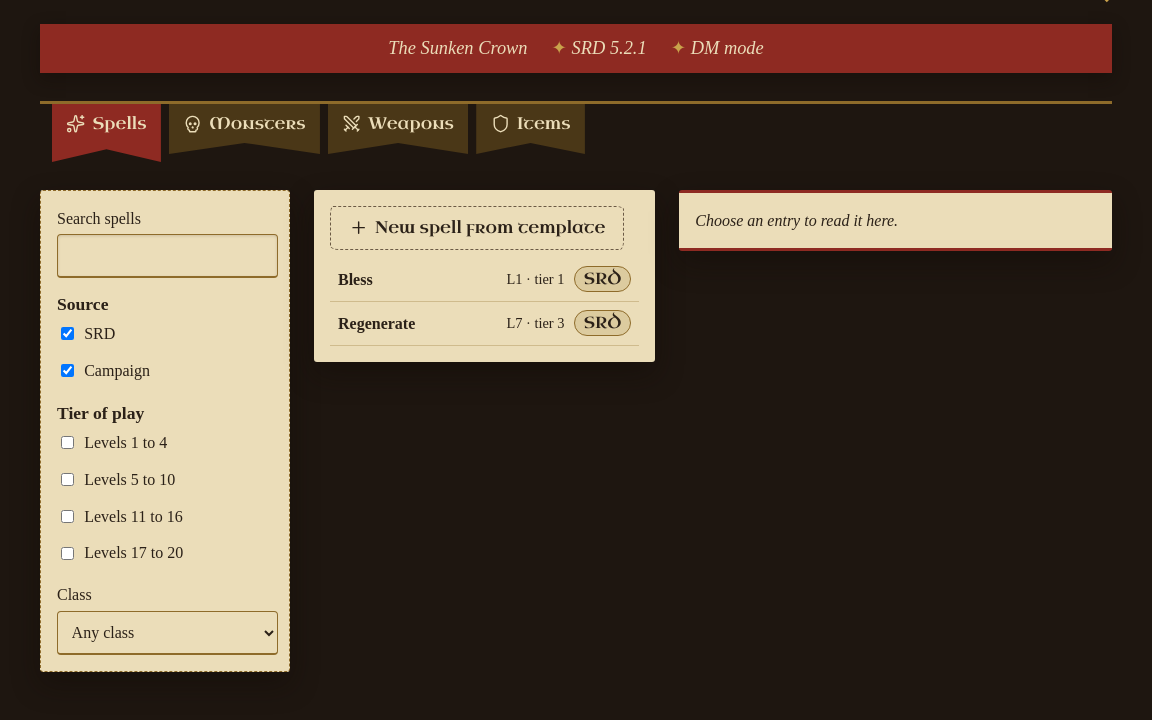
Scenario: the spells shelf › filters by class and tier down to Regenerate and shows its details
The width and height of the screenshot is (1152, 720).
(page scrolled)
Expected: the text "Bless" is shown, [338, 271, 373, 288]
Select "Cleric" in the dropdown labelled "Class" at (168, 633), box [57, 611, 278, 655]
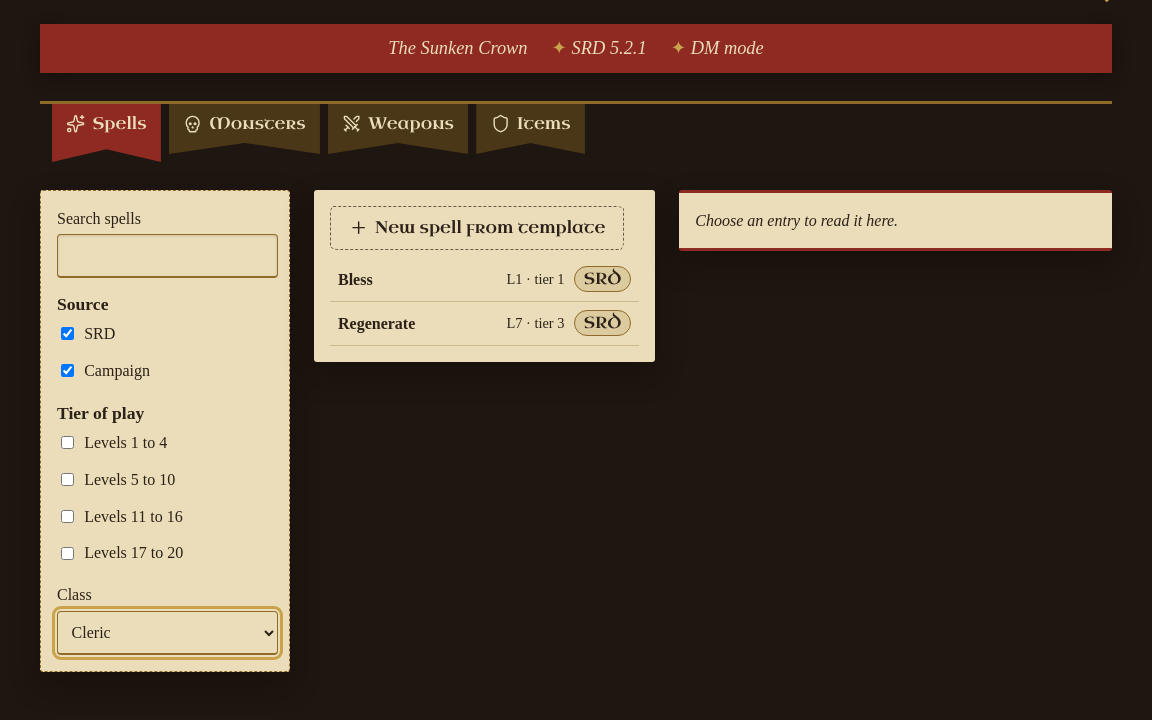
Click the checkbox labelled "Levels 11 to 16" at (68, 516), box [61, 510, 74, 523]
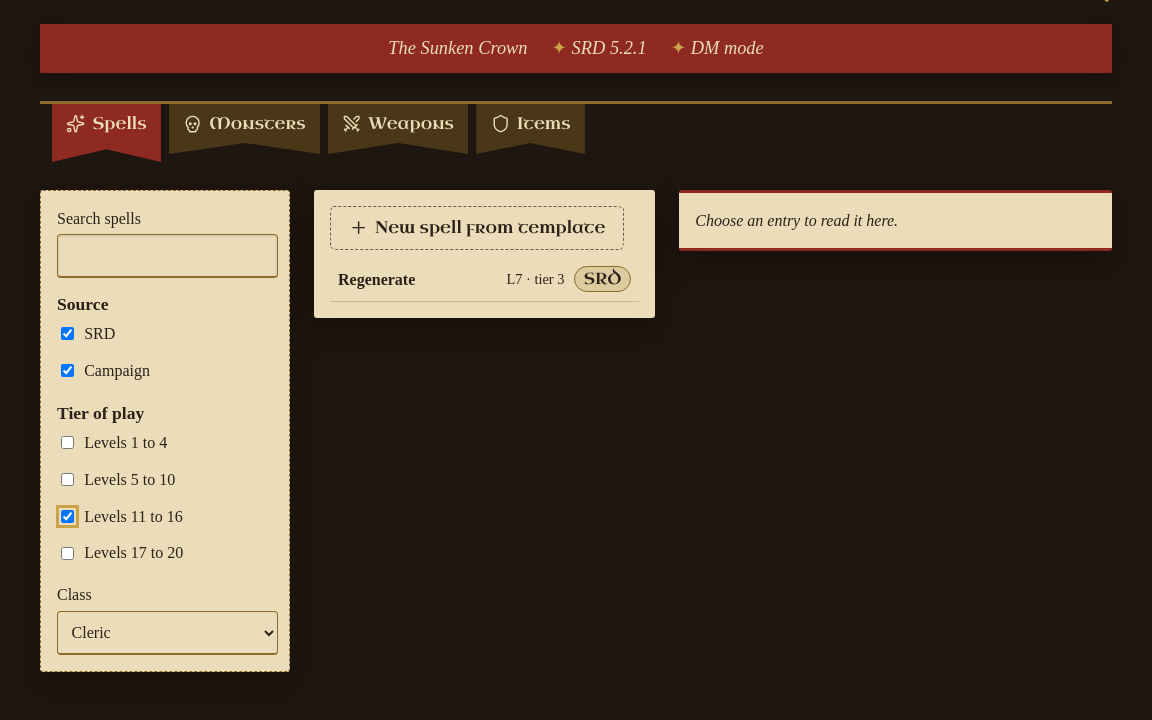
Now the button "Bless" is gone
Click the button "Regenerate L7 · tier 3 SRD" at (377, 279), box [330, 258, 639, 302]
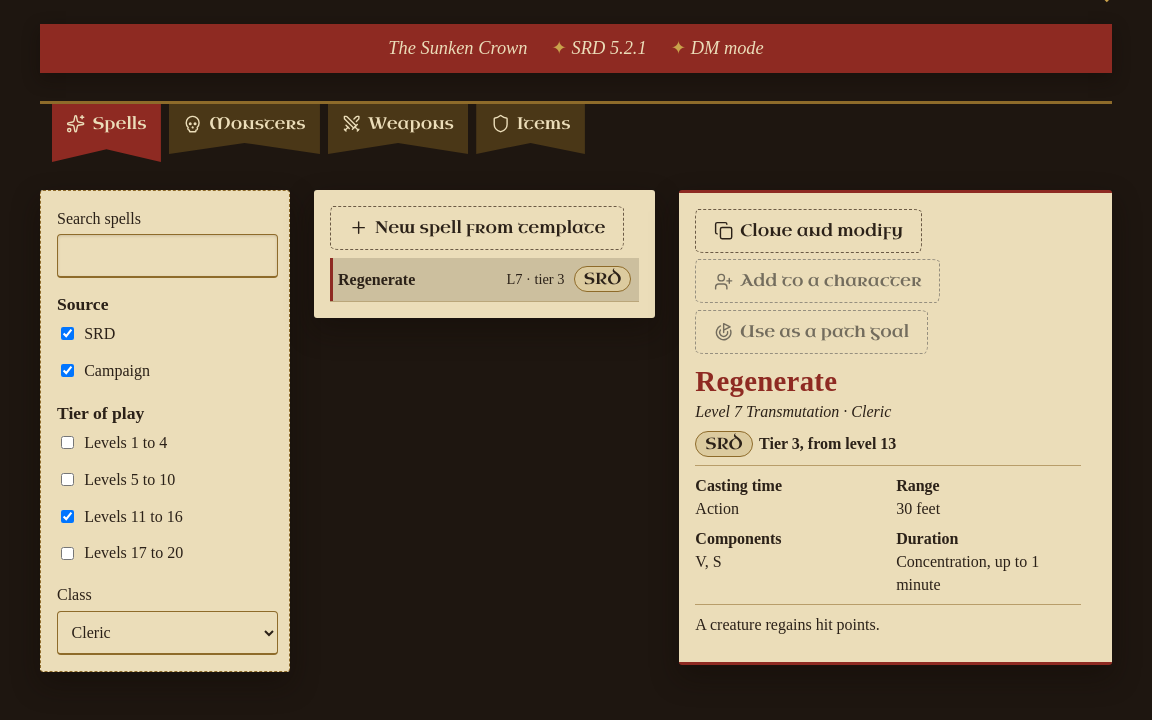
Now the text "Tier 3, from level 13" is shown, box [759, 432, 896, 456]
Now the text "Level 7 Transmutation · Cleric" is shown, box [695, 403, 891, 420]
Now the text "A creature regains hit points." is shown, box [695, 616, 880, 633]
